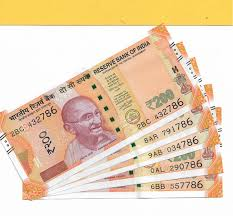twoHundred: (17, 86, 200, 153)
